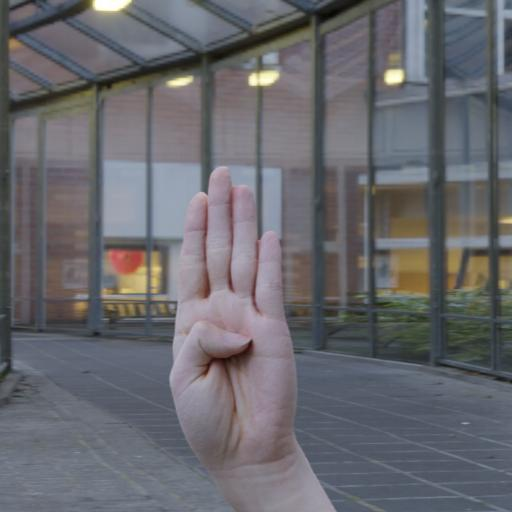B: (156, 160, 308, 478)
